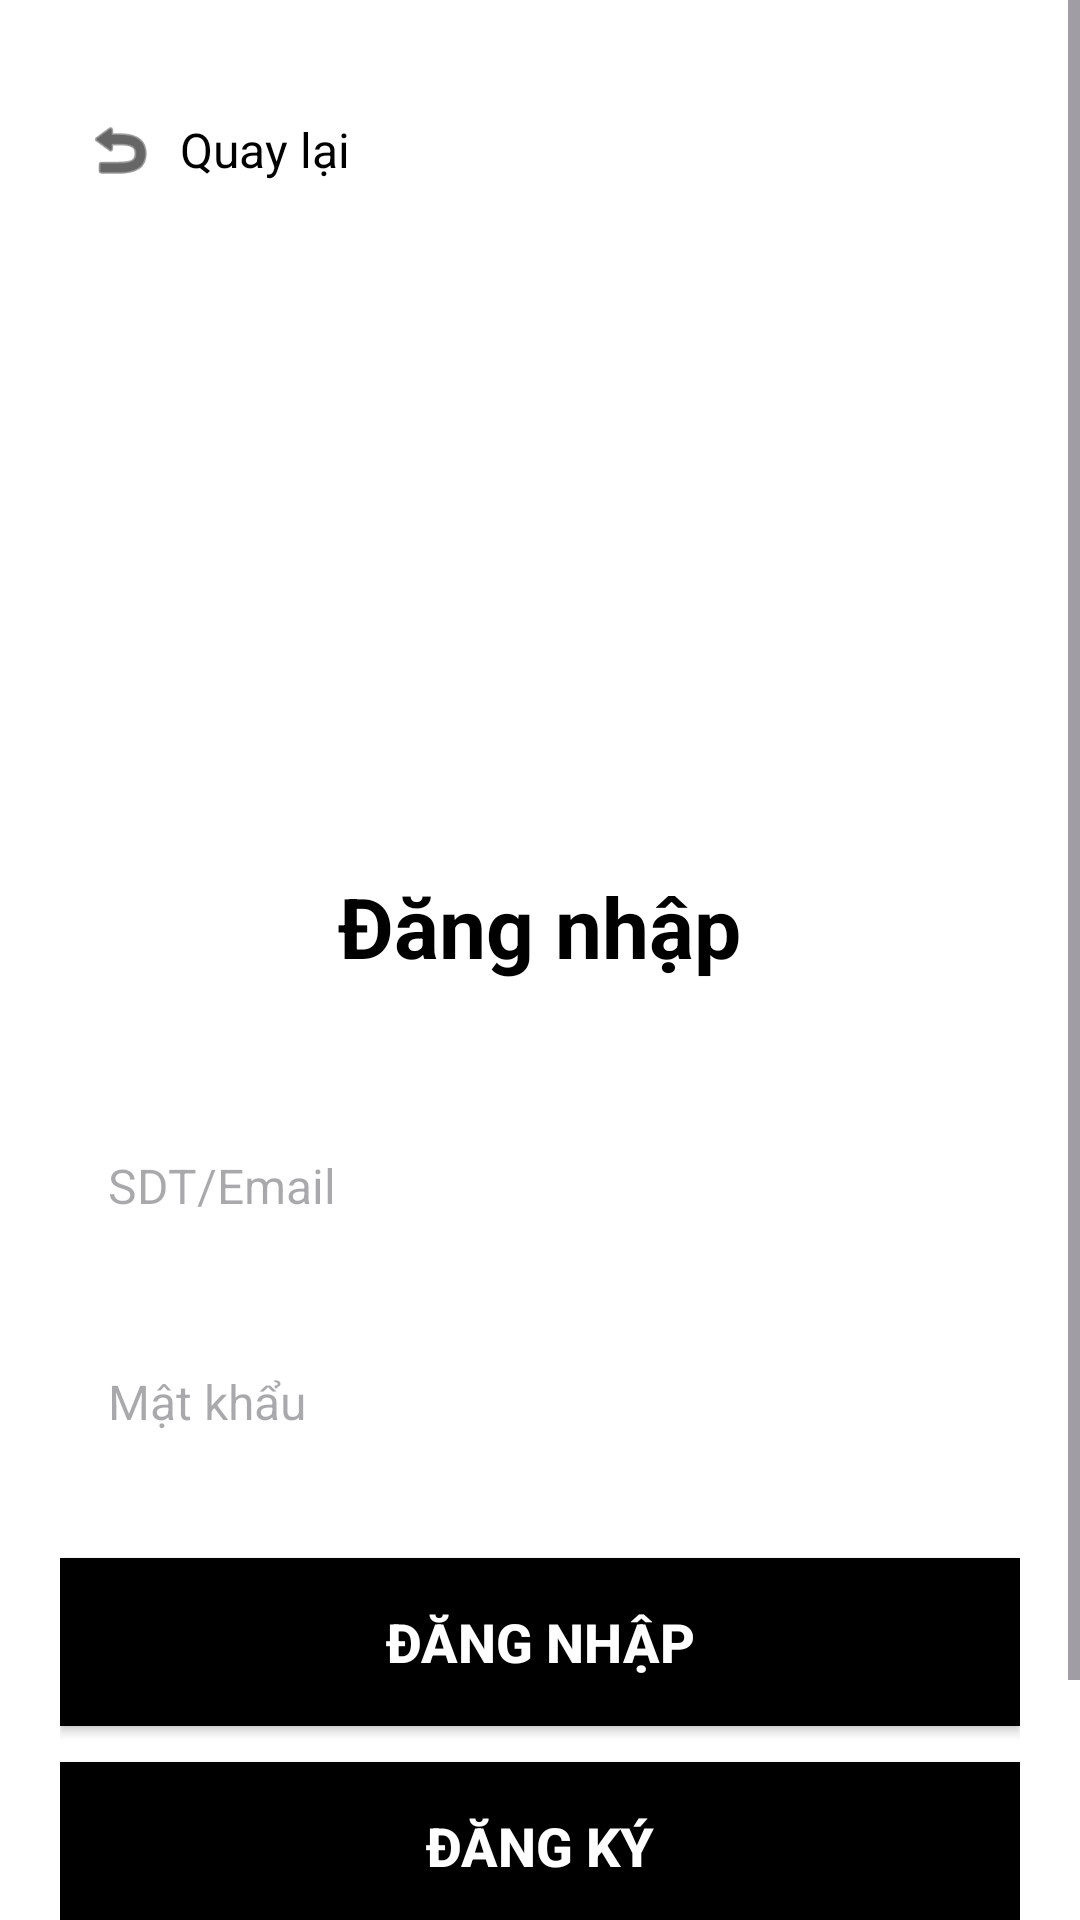

Locate icon controls on the screen. Image size 1080 x 1920, boxes as (x1=x1, y1=y1, x2=x2, y2=y2).
revert: (x1=95, y1=127, x2=147, y2=174)
